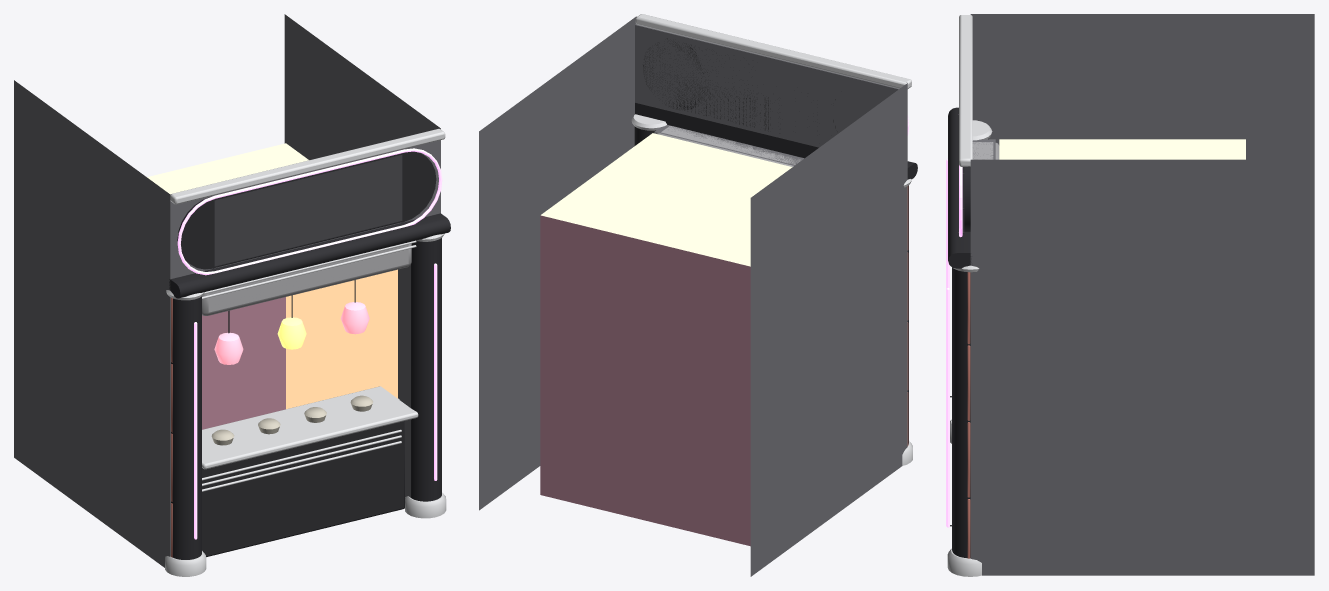
Rendered from retro_shop_lit_3a.glb.
3 renders of one model, left to right at view 1: azimuth 30°, elevation 25°; view 2: azimuth 150°, elevation 25°; view 3: azimuth 270°, elevation 25°, orthographic. The views are drawn at different scales.
Parts seen in each view (by area): view 1: retro_shop_lit_3a; view 2: retro_shop_lit_3a; view 3: retro_shop_lit_3a.
Part boxes in pixels (left/top/right/bottom): retro_shop_lit_3a: left=14, top=14, right=450, bottom=576; retro_shop_lit_3a: left=479, top=14, right=917, bottom=576; retro_shop_lit_3a: left=946, top=14, right=1314, bottom=576.
Size of the model in its own units: 3.06 by 4 by 3.21.
